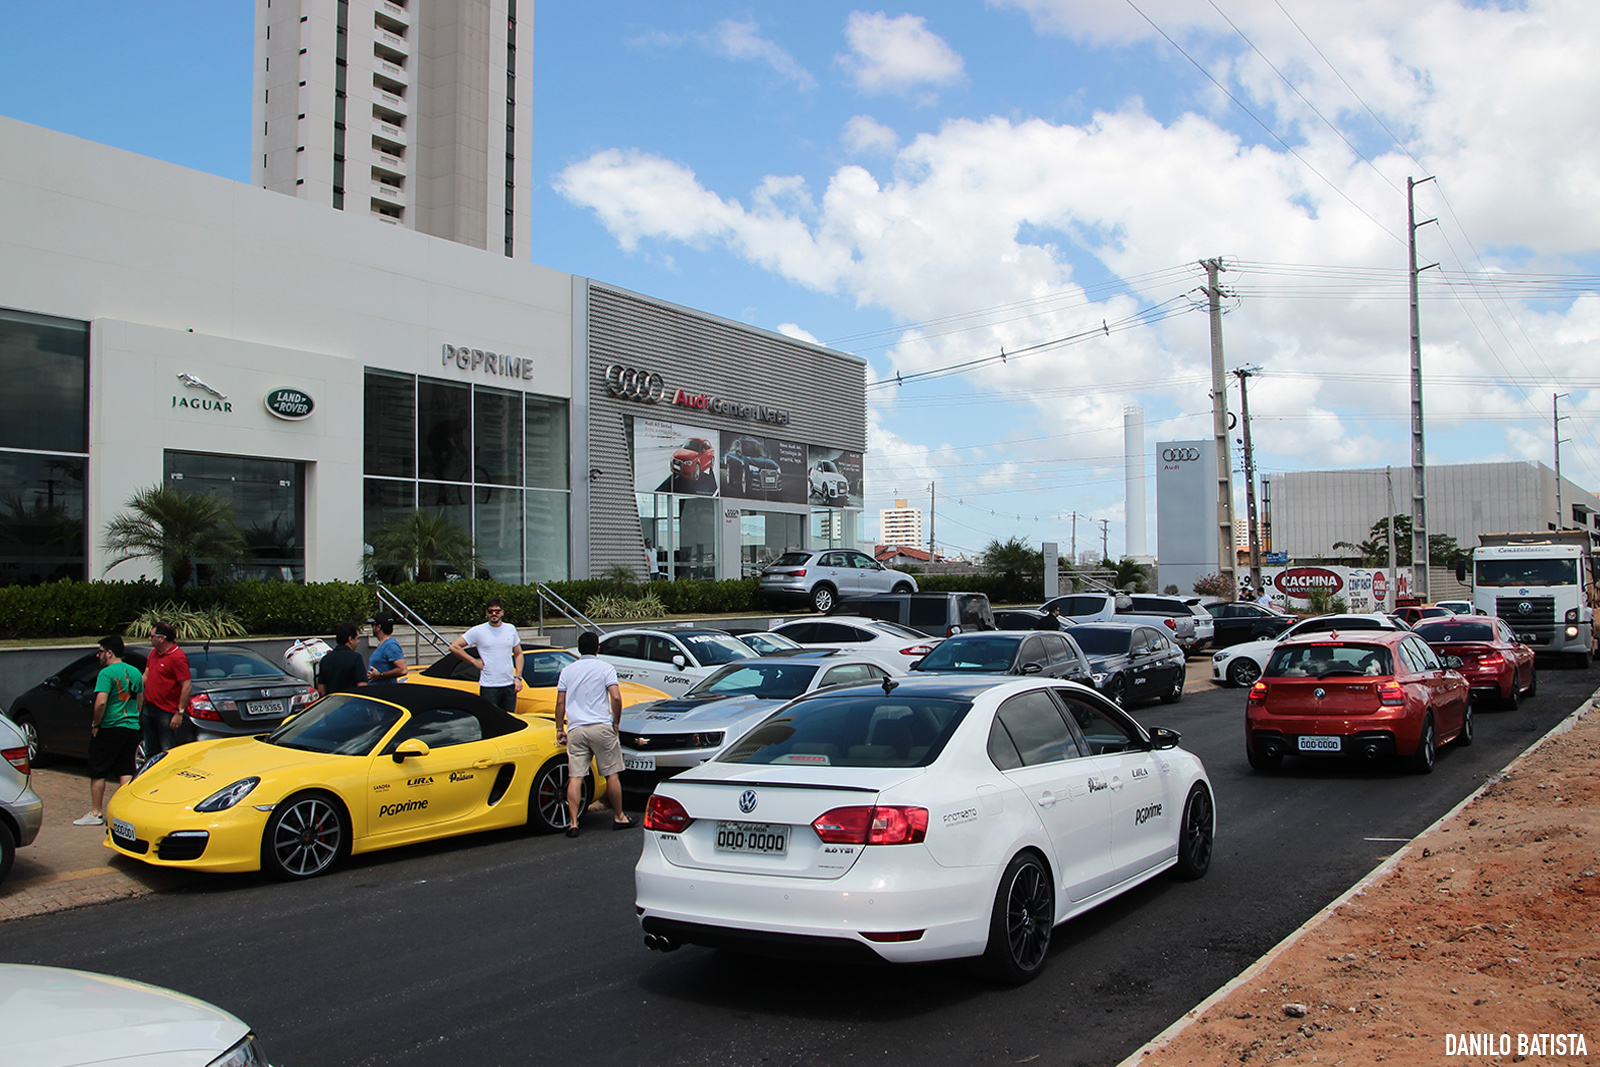Carro: (631, 672, 1215, 980), (93, 685, 604, 853), (12, 637, 321, 788), (595, 659, 919, 784), (1239, 630, 1479, 768), (1213, 603, 1412, 703), (901, 634, 1093, 713), (752, 614, 949, 686), (1410, 610, 1540, 712), (1050, 624, 1190, 712), (1029, 589, 1200, 659), (758, 545, 920, 612)
